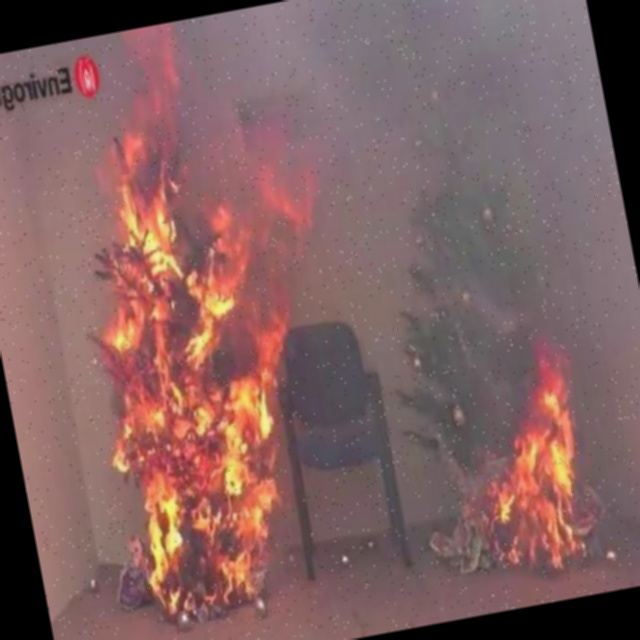fire: (0, 1, 393, 640), (427, 333, 614, 588)
